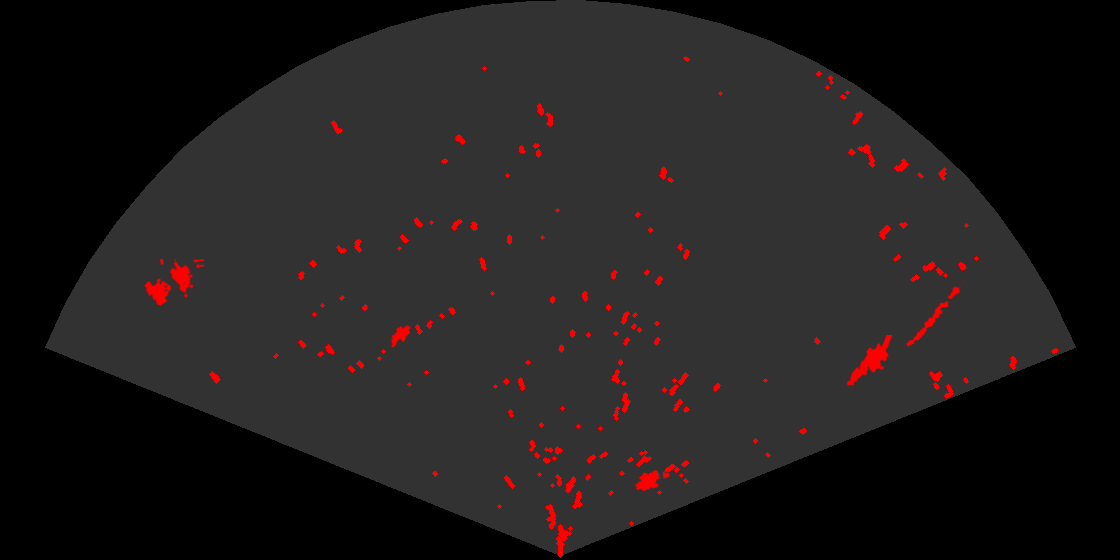AUV: (633, 468, 672, 493), (389, 323, 413, 349)
cage: (143, 259, 204, 308)
chain: (905, 280, 967, 348)
frogman: (845, 335, 894, 388)
